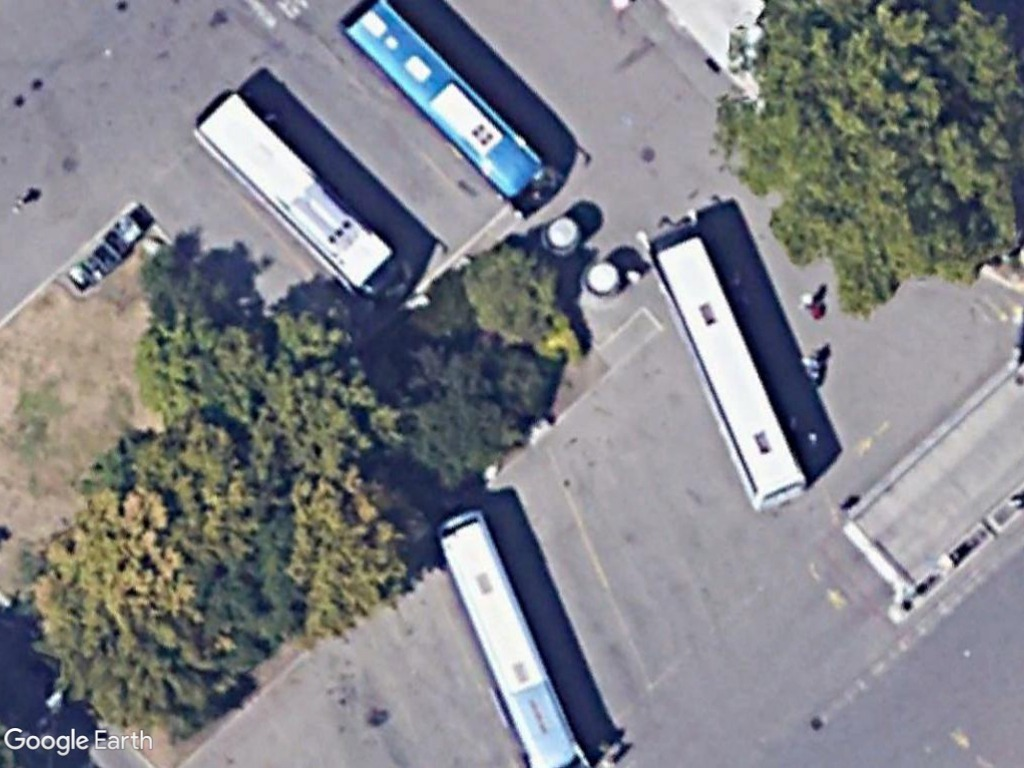bus: (643, 230, 812, 512), (193, 89, 402, 297), (346, 0, 552, 211), (434, 512, 577, 768)
